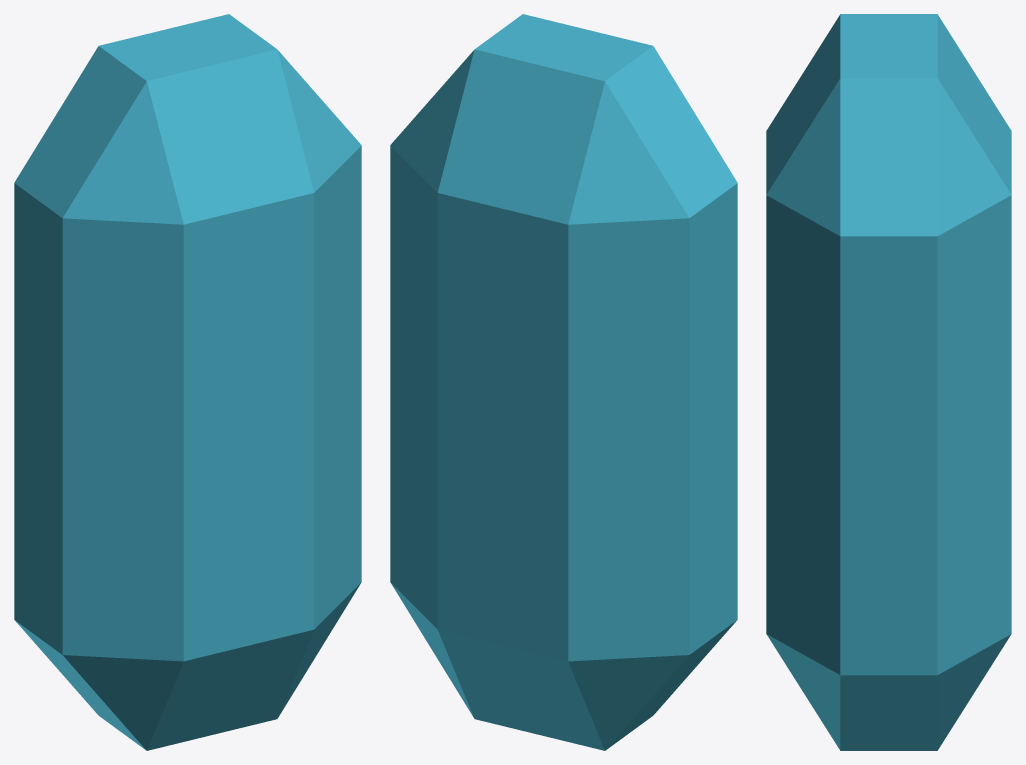
The model's file is Gem_Blue.gltf.
3 renders of one model, left to right at view 1: azimuth 30°, elevation 25°; view 2: azimuth 150°, elevation 25°; view 3: azimuth 270°, elevation 25°, orthographic.
Visible parts, largest first — view 1: Gem_Blue; view 2: Gem_Blue; view 3: Gem_Blue.
Boxes of the visible parts, x1=… form: Gem_Blue: x1=14, y1=14, x2=361, y2=750; Gem_Blue: x1=390, y1=14, x2=737, y2=750; Gem_Blue: x1=766, y1=14, x2=1011, y2=750.
Size of the model in its own units: 0.9863 by 2.11 by 0.697.
